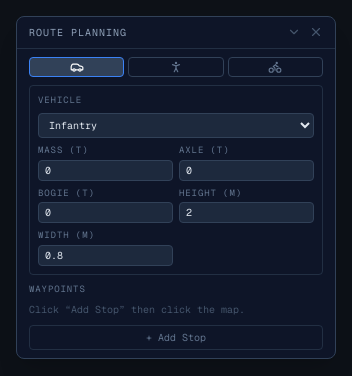
Scenario: RoutePanel › auto-fills fields when MBT preset is selected
# MBT is index 3
Select "MBT (tank)" in the dropdown with test id "vehicle-preset-select" at [176, 126], box [38,113,314,138]
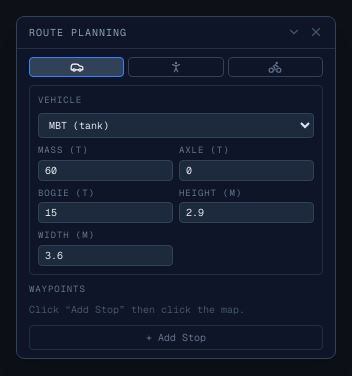
Now the number field labelled "Mass (t)" holds "60", box [38,160,173,180]
